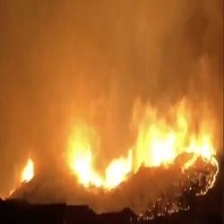fire: (15, 123, 223, 190)
